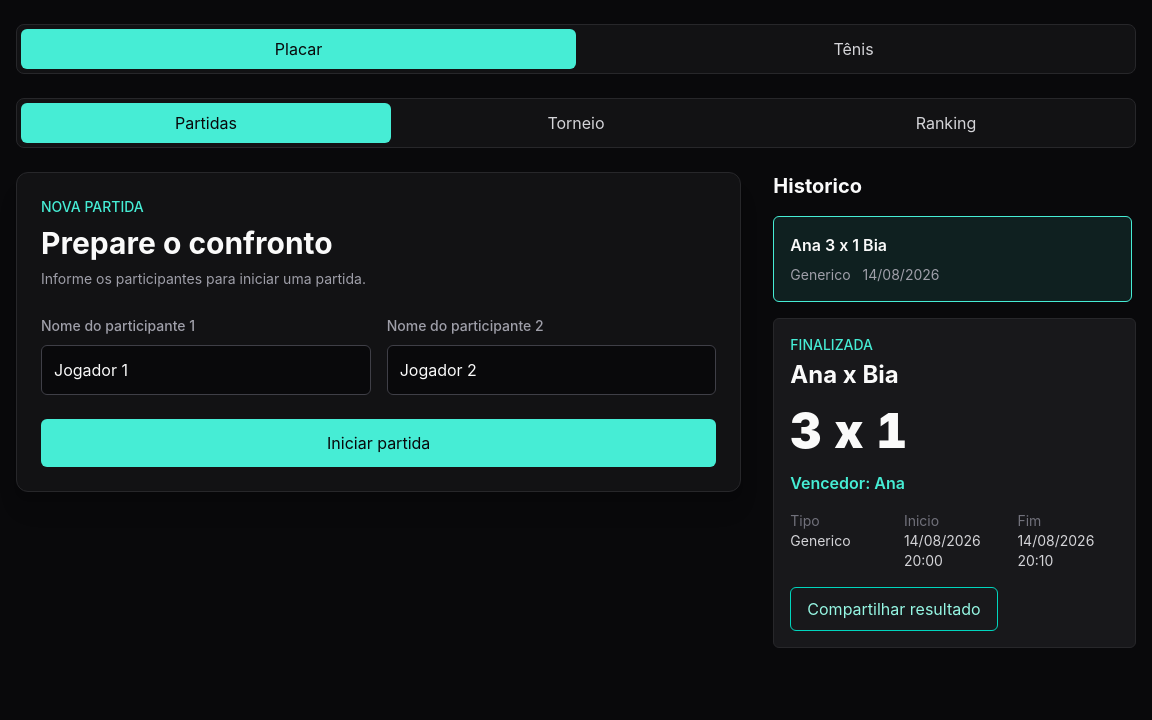
Test: App phase 3 persistence and history › shows ranking from real history in its own navigation section
The image size is (1152, 720).
Click the button "Ranking" at (946, 123), box top-left (761, 103), bottom-right (1131, 143)
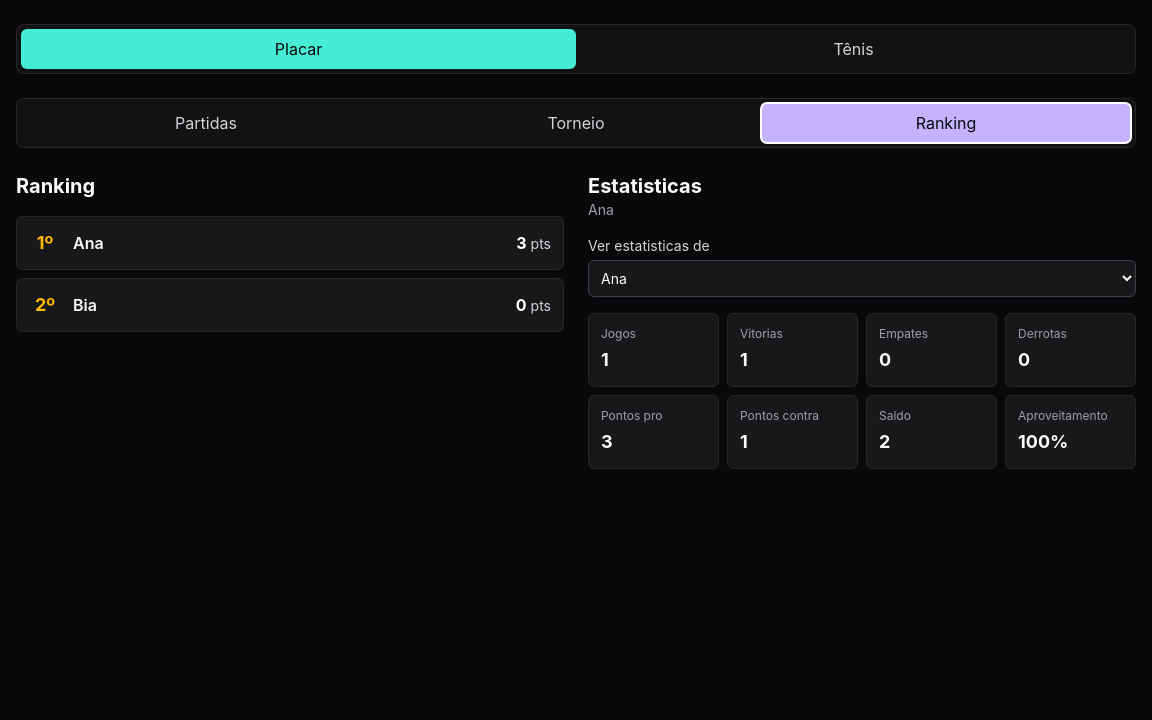
Expected: the heading "Ranking" is shown, top-left (16, 174), bottom-right (95, 198)
Expected: the list item "1º Ana 3 pts" is shown, top-left (16, 216), bottom-right (564, 270)
Expected: the button "Iniciar partida" is gone
